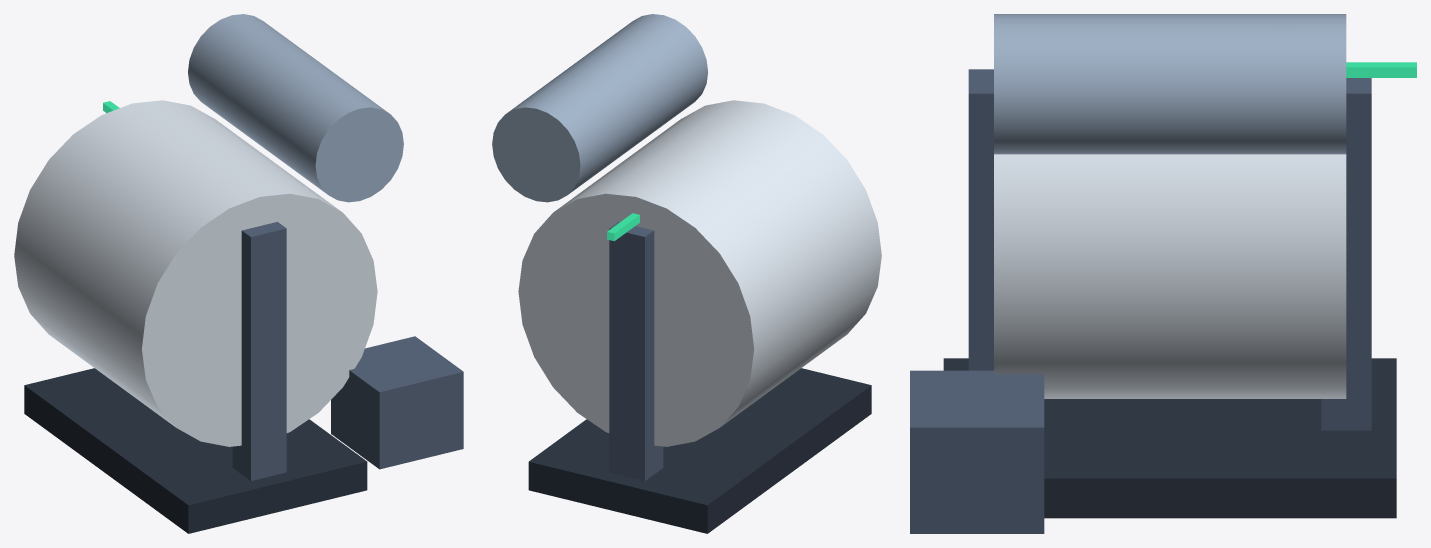
Rendered from caster.glb.
The picture shows the model from 3 angles, left to right: view 1: azimuth 30°, elevation 25°; view 2: azimuth 150°, elevation 25°; view 3: azimuth 270°, elevation 25°; orthographic projection. The views are drawn at different scales.
Size of the model in its own units: 94.18 by 113 by 103.
